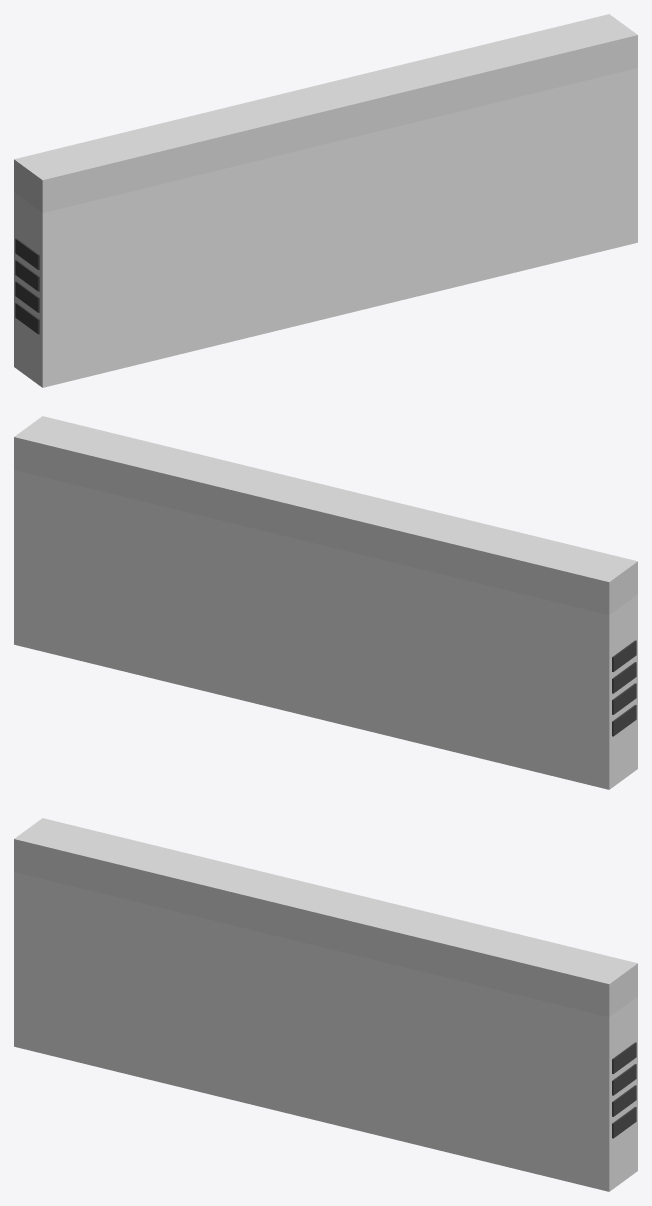
File: table_w.fbx
The picture shows the model from 3 angles, top to bottom: view 1: azimuth 30°, elevation 25°; view 2: azimuth 150°, elevation 25°; view 3: azimuth 330°, elevation 25°; orthographic projection.
Visible parts, largest first — view 1: table_w; view 2: table_w; view 3: table_w.
Boxes of the visible parts, box(x1,y1,x2,y2) form: table_w: box(14, 14, 637, 387); table_w: box(14, 416, 637, 789); table_w: box(14, 818, 637, 1191).
Size of the model in its own units: 3.01 by 1 by 0.25.
